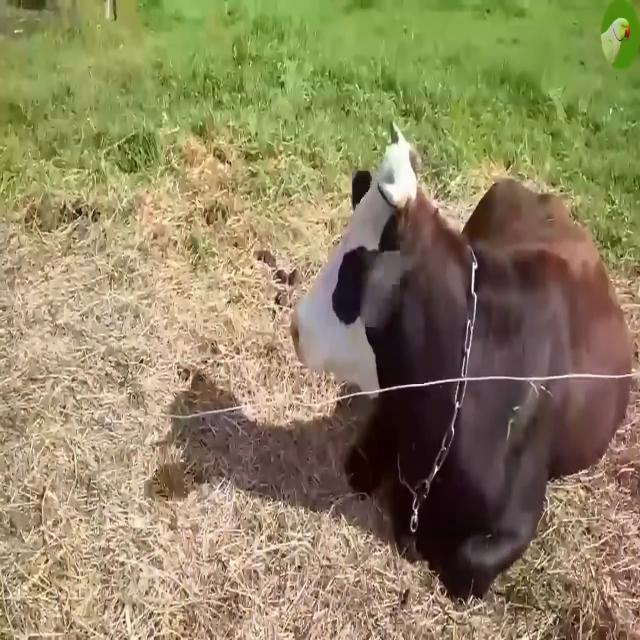cow: (295, 129, 632, 597)
